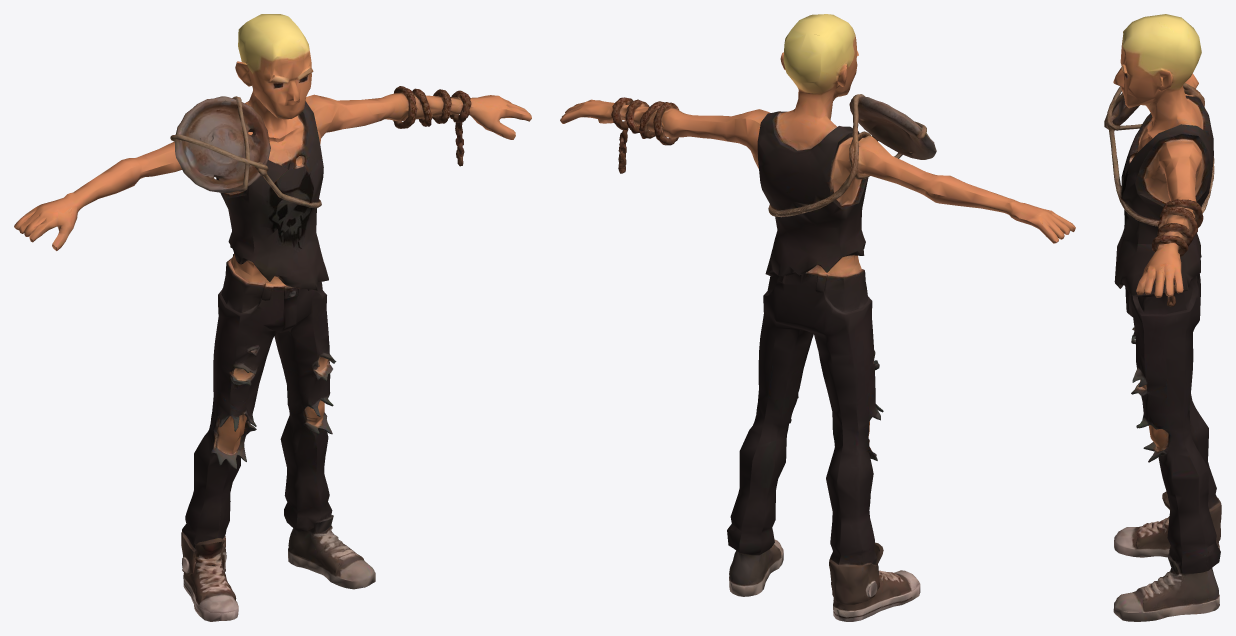
File: char_rd_m_thin_idle.glb
3 views of the same model, side by side, from view 1: azimuth 30°, elevation 25°; view 2: azimuth 150°, elevation 25°; view 3: azimuth 270°, elevation 25° (orthographic).
Visible parts, largest first — view 1: tripo_node_adb4407d-a9a6-40a1-92a3-0120179170d1; view 2: tripo_node_adb4407d-a9a6-40a1-92a3-0120179170d1; view 3: tripo_node_adb4407d-a9a6-40a1-92a3-0120179170d1.
Boxes of the visible parts, left/top/right/bottom form: tripo_node_adb4407d-a9a6-40a1-92a3-0120179170d1: left=14, top=14, right=531, bottom=621; tripo_node_adb4407d-a9a6-40a1-92a3-0120179170d1: left=560, top=14, right=1075, bottom=621; tripo_node_adb4407d-a9a6-40a1-92a3-0120179170d1: left=1104, top=14, right=1221, bottom=621.
Size of the model in its own units: 1.63 by 1.76 by 0.3325.
1 material, 1 textured.
